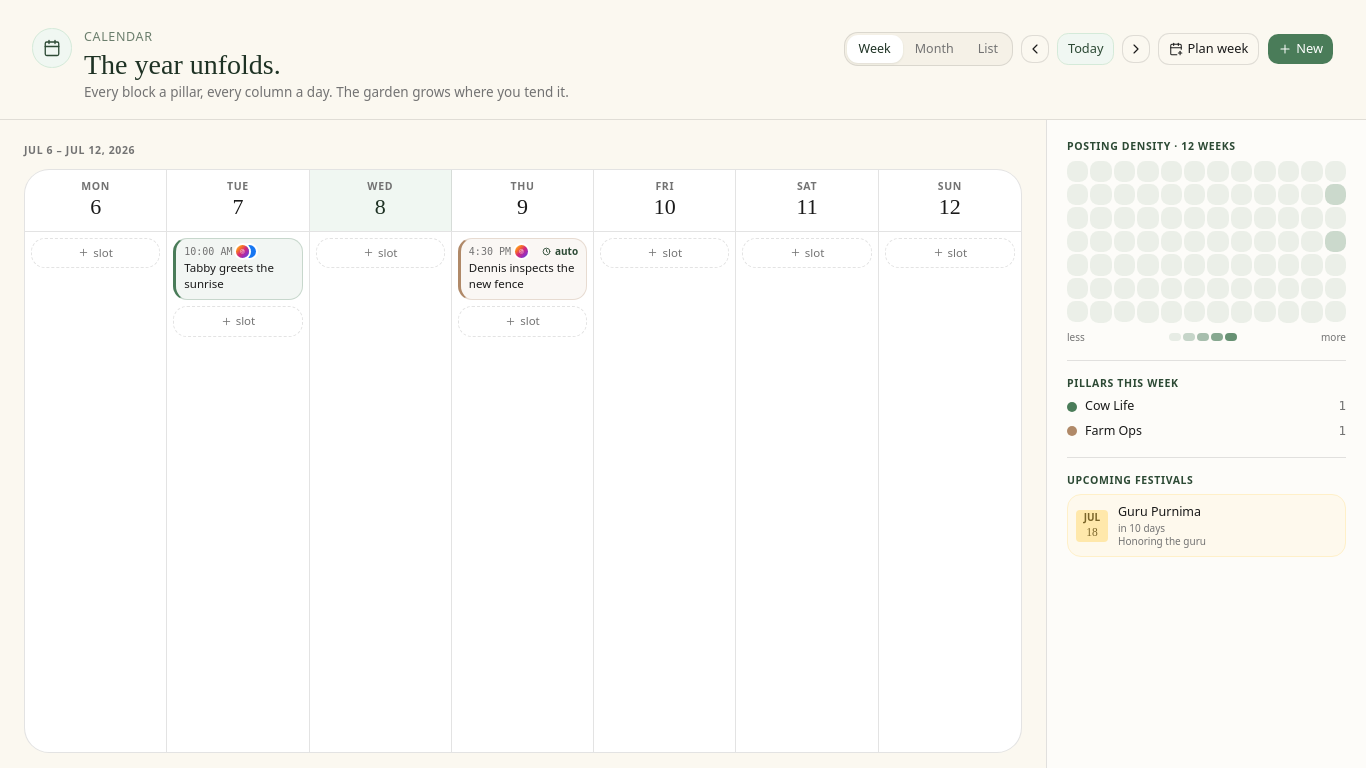
Scenario: CalendarPage › switches views via the segmented control (radiogroup)
Expected: the element named "calendar view" is shown, [844,32,1013,66]
Expected: the text "Tabby greets the sunrise" is shown, [184,260,274,291]
Click the radio button labelled "List": (988, 49) [966,35,1010,63]
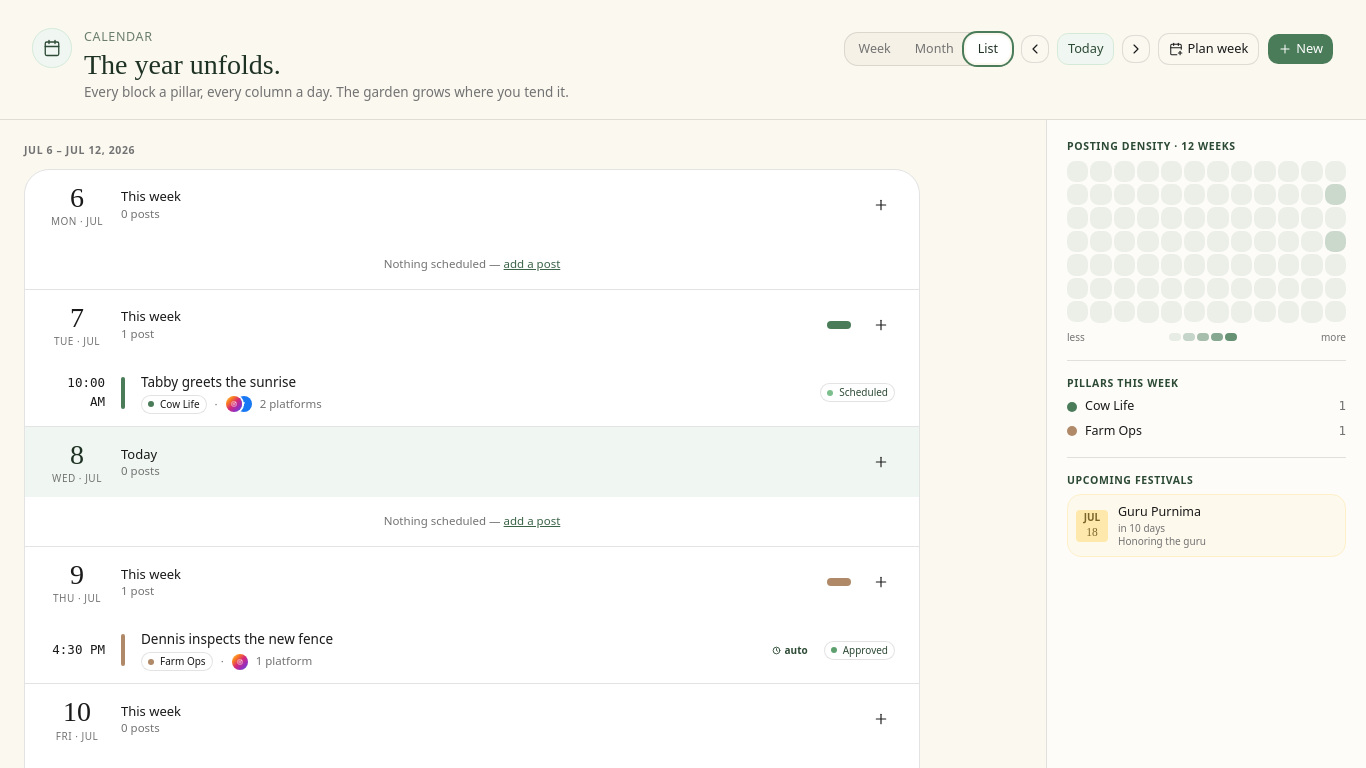
Expected: the text "Tabby greets the sunrise" is shown, [141,373,296,391]
Now the 1st text "Nothing scheduled — add a post" is shown, box [384,256,560,273]
Month view: range label becomes the month name
Click the radio button labelled "Month": (934, 49) [903,35,966,63]
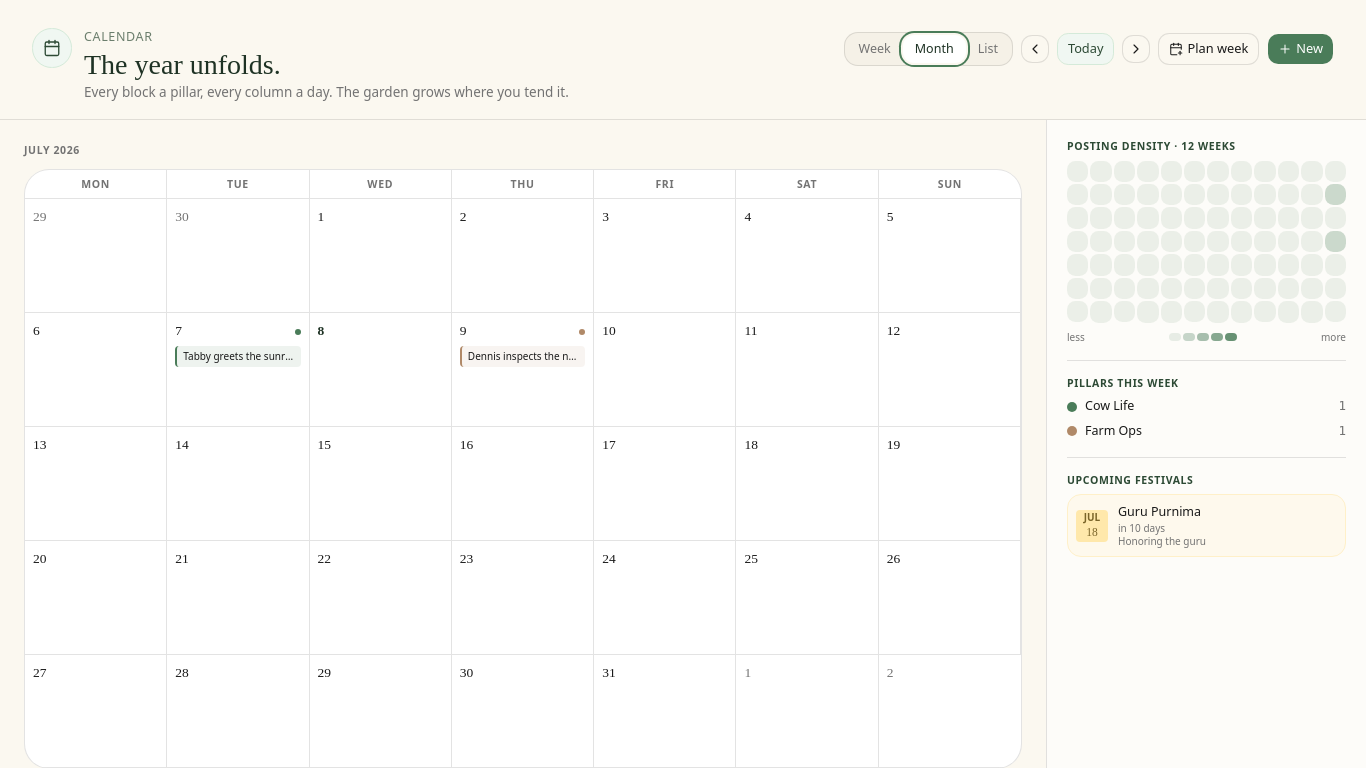
Now the text "July 2026" is shown, box [24,143,80,157]
Back to week
Click the radio button labelled "Week": (875, 49) [847,35,903,63]
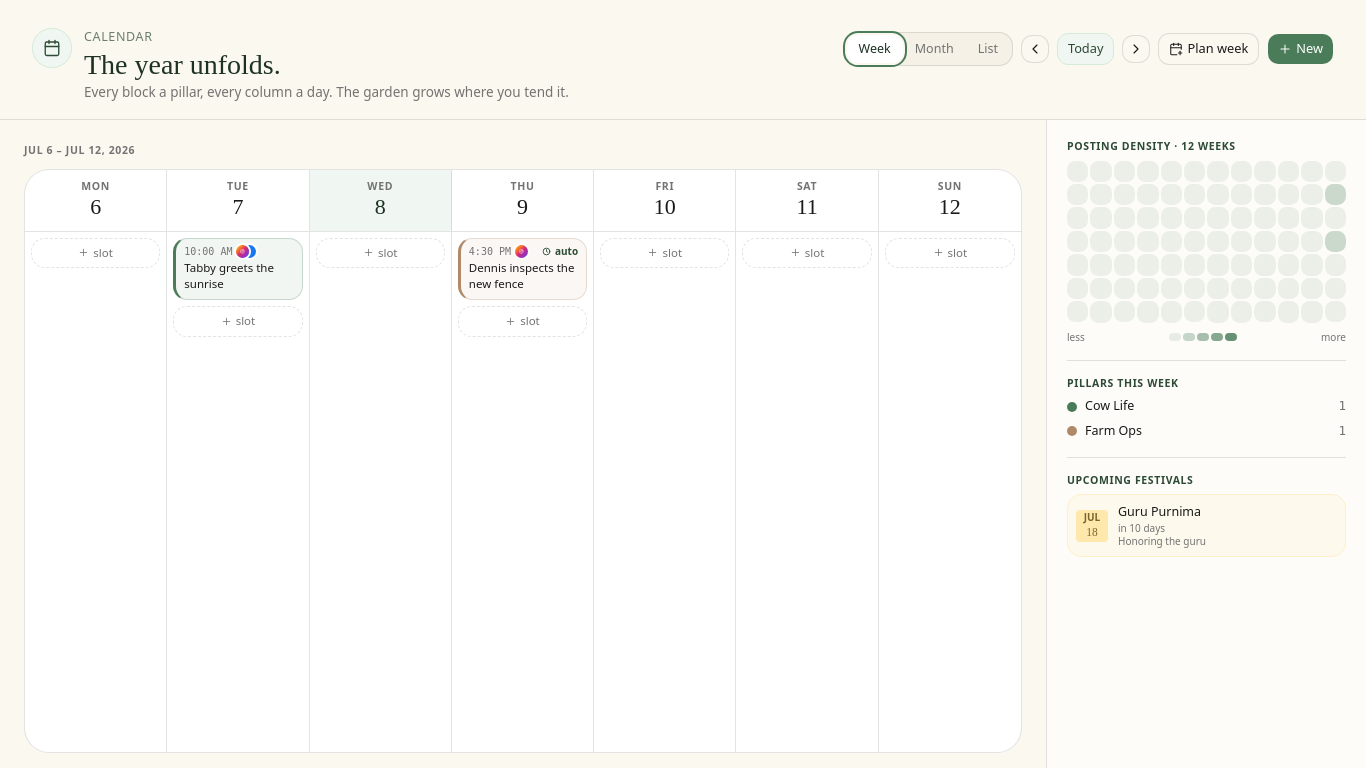
Now the text "Jul 6 – Jul 12, 2026" is shown, box [24,143,135,157]
